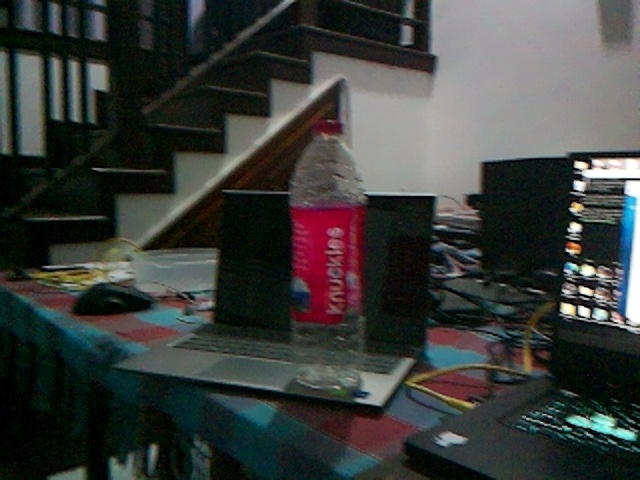bottle: (284, 118, 369, 393)
